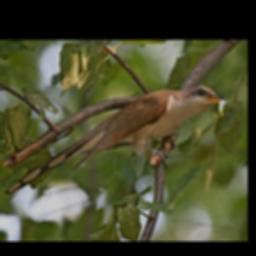Cuckoo: (3, 83, 233, 195)
